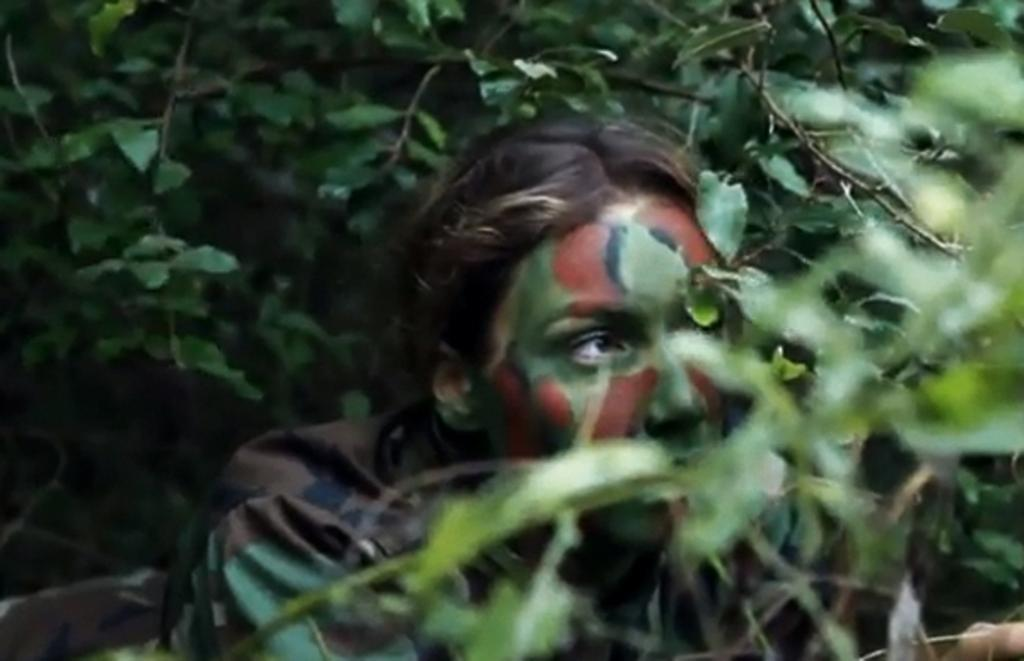face: (490, 210, 734, 548)
